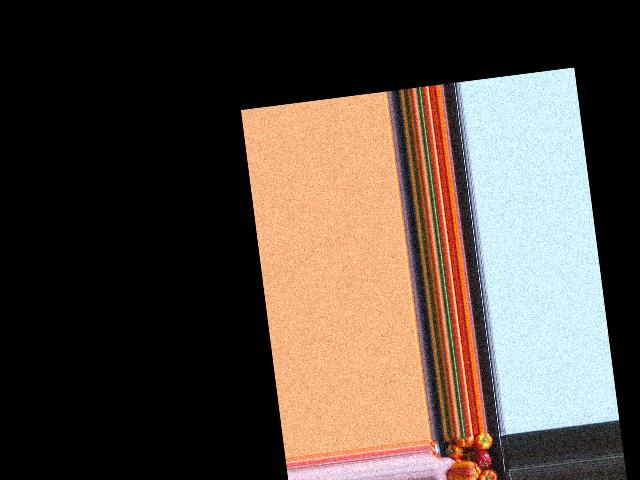bell_pepper: (447, 441, 464, 461)
